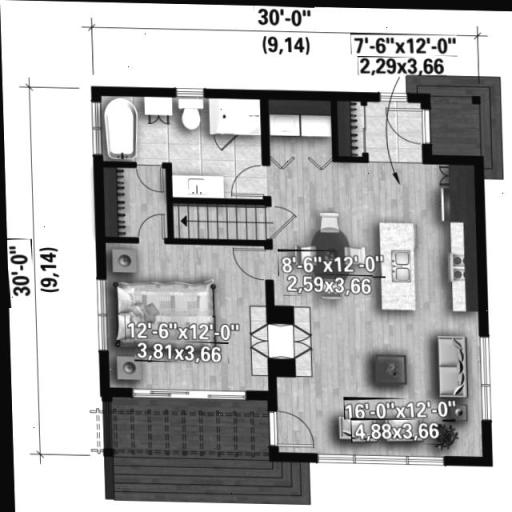bathroom: (104, 102, 286, 232)
bedroom: (114, 239, 274, 399)
hall: (300, 105, 489, 459)
